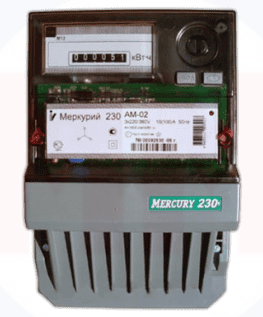counter: (25, 8, 240, 296)
counter_screen: (67, 49, 130, 64)
